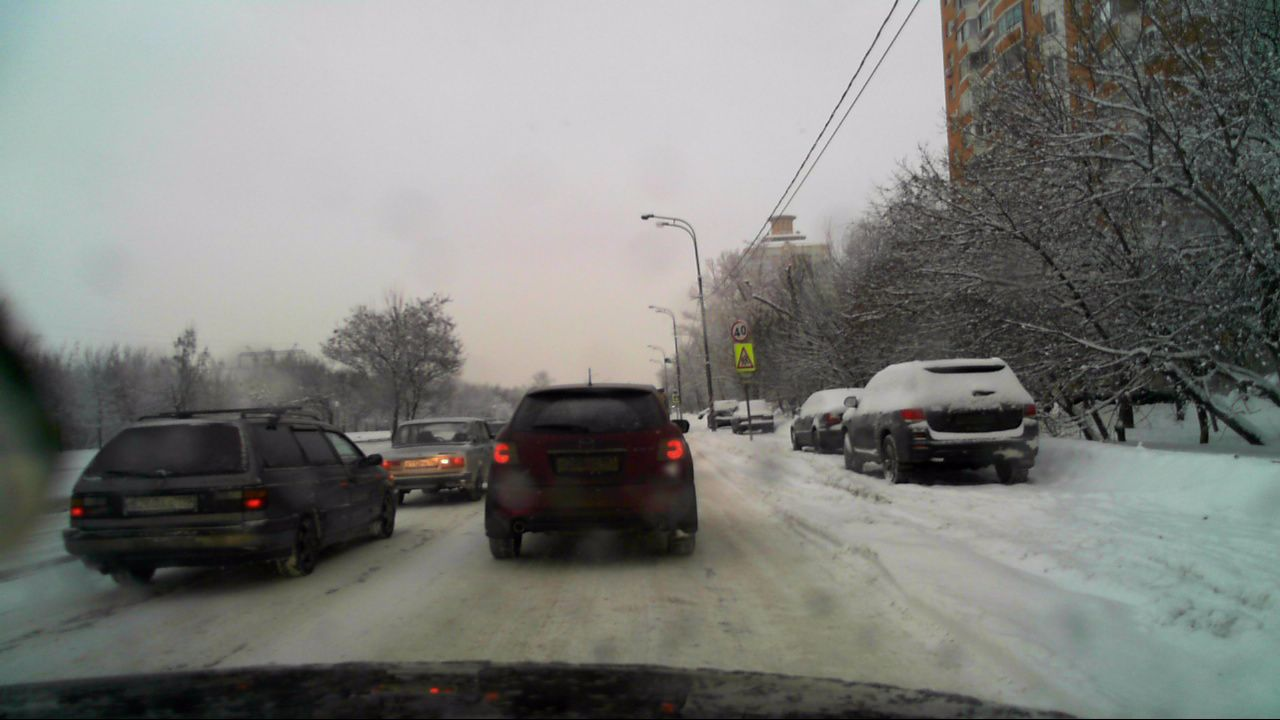speed_warning_40: (728, 319, 750, 341)
